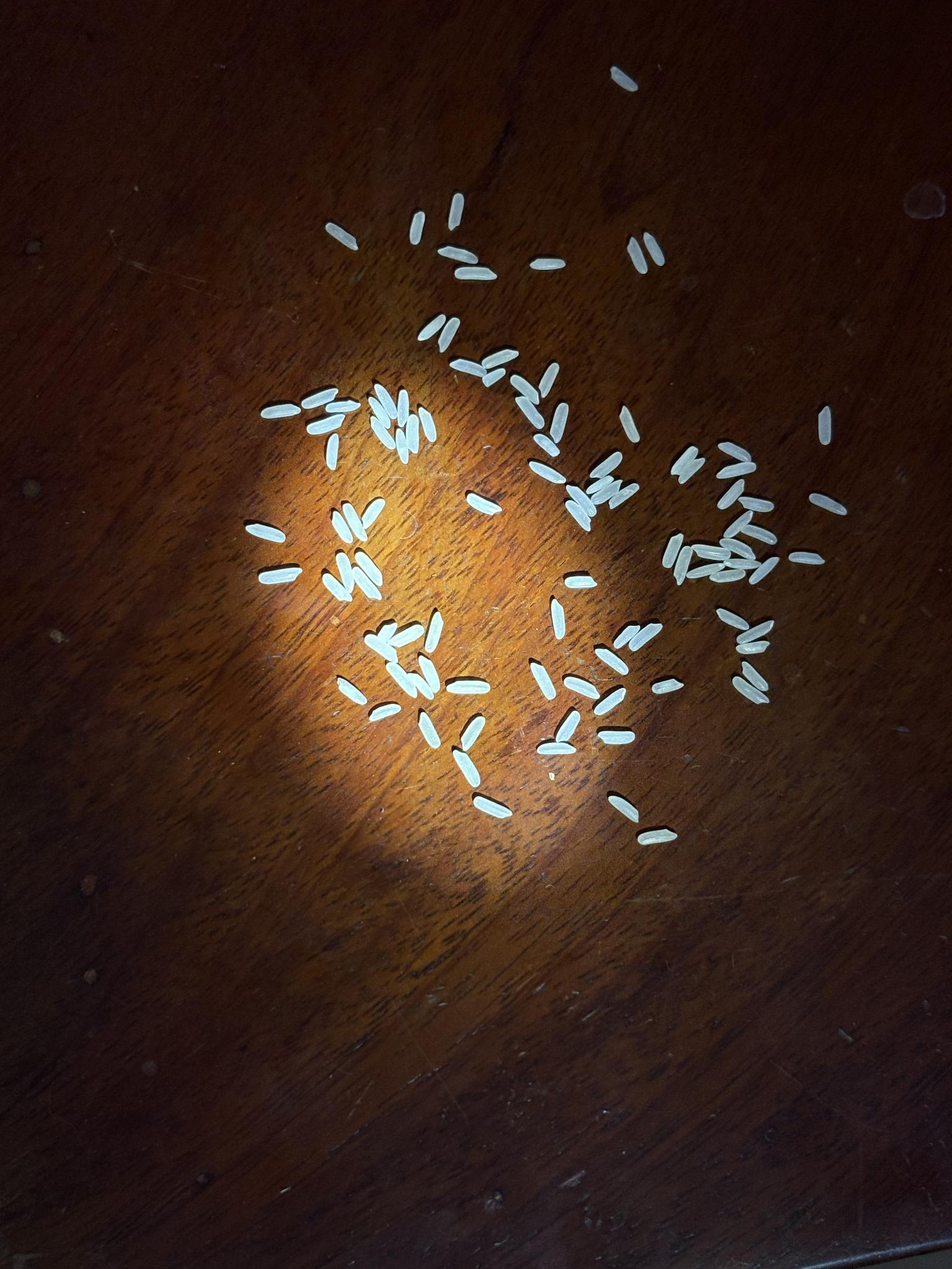Rice-th-y-nh: (386, 662, 417, 698), (452, 749, 481, 787), (342, 503, 367, 542), (733, 677, 769, 704), (629, 623, 663, 651), (567, 485, 596, 517), (531, 663, 556, 700), (325, 222, 358, 250), (356, 552, 383, 586), (510, 375, 540, 405), (516, 397, 544, 429), (353, 568, 381, 600), (364, 635, 398, 661), (749, 557, 780, 585), (672, 546, 694, 585), (461, 717, 486, 751), (323, 573, 352, 602), (474, 797, 512, 819), (590, 452, 622, 478), (418, 712, 441, 748), (418, 656, 441, 692), (595, 649, 628, 674), (737, 621, 774, 643), (723, 511, 753, 538), (337, 678, 367, 705), (595, 689, 626, 715), (370, 417, 395, 449), (809, 494, 847, 515), (307, 414, 345, 435), (626, 238, 648, 274), (564, 677, 600, 699), (720, 538, 756, 560), (718, 480, 745, 509), (671, 446, 698, 475), (609, 796, 639, 822), (742, 661, 768, 691), (591, 480, 622, 505), (389, 625, 424, 647), (375, 384, 397, 419), (556, 711, 580, 743), (425, 612, 444, 652), (619, 406, 640, 442), (417, 315, 446, 341), (566, 501, 591, 531), (609, 484, 639, 509), (438, 318, 460, 352), (643, 232, 665, 266), (246, 524, 285, 543), (610, 66, 638, 92), (678, 458, 706, 484), (550, 404, 569, 442), (302, 389, 338, 409), (438, 246, 478, 264), (539, 363, 560, 397), (662, 534, 683, 568), (362, 498, 385, 528), (331, 512, 353, 543), (717, 608, 748, 630), (530, 463, 564, 483), (409, 673, 434, 700), (717, 462, 756, 479), (719, 442, 752, 462), (467, 494, 500, 514), (369, 397, 390, 428), (482, 350, 518, 368), (451, 359, 487, 377), (743, 525, 777, 544), (259, 569, 302, 584), (613, 625, 640, 648), (447, 194, 464, 230), (447, 680, 490, 694), (551, 599, 566, 639), (638, 829, 677, 844), (692, 545, 731, 560), (419, 407, 436, 441), (369, 704, 401, 722), (337, 553, 353, 589), (739, 497, 774, 513), (534, 434, 559, 456), (261, 404, 300, 418), (455, 267, 497, 280), (409, 211, 425, 245), (687, 563, 723, 578), (395, 390, 410, 426), (405, 415, 419, 453), (818, 406, 832, 444), (394, 429, 409, 463), (711, 568, 745, 583), (538, 742, 575, 755), (789, 551, 825, 564), (598, 731, 636, 743), (326, 434, 339, 469), (652, 679, 684, 693), (727, 558, 761, 571), (325, 401, 360, 413), (530, 258, 565, 270), (736, 642, 770, 654), (586, 478, 613, 493), (483, 368, 505, 386), (377, 623, 397, 642), (565, 577, 597, 588)
